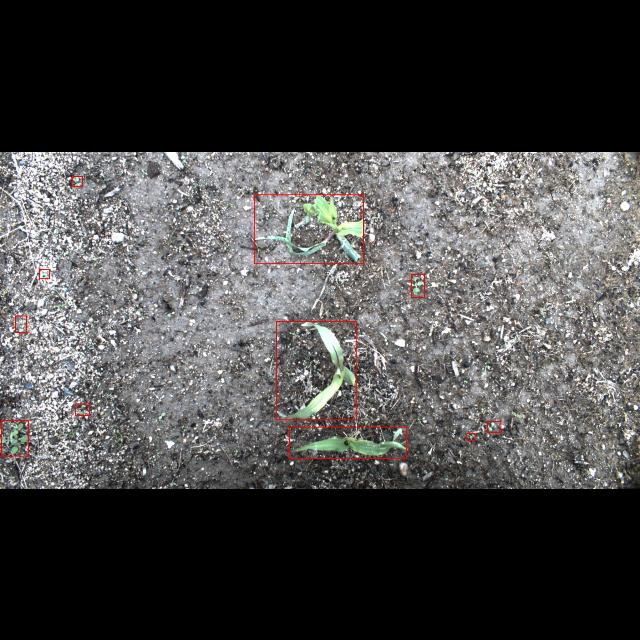crop: (276, 320, 356, 420), (254, 194, 364, 262), (289, 427, 406, 458)
weed: (1, 420, 28, 456), (411, 274, 425, 296), (16, 316, 27, 332), (75, 403, 89, 415), (487, 422, 501, 432), (72, 175, 82, 185), (39, 268, 49, 278), (467, 434, 475, 441)
